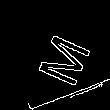M_NW: (23, 24, 87, 86)
